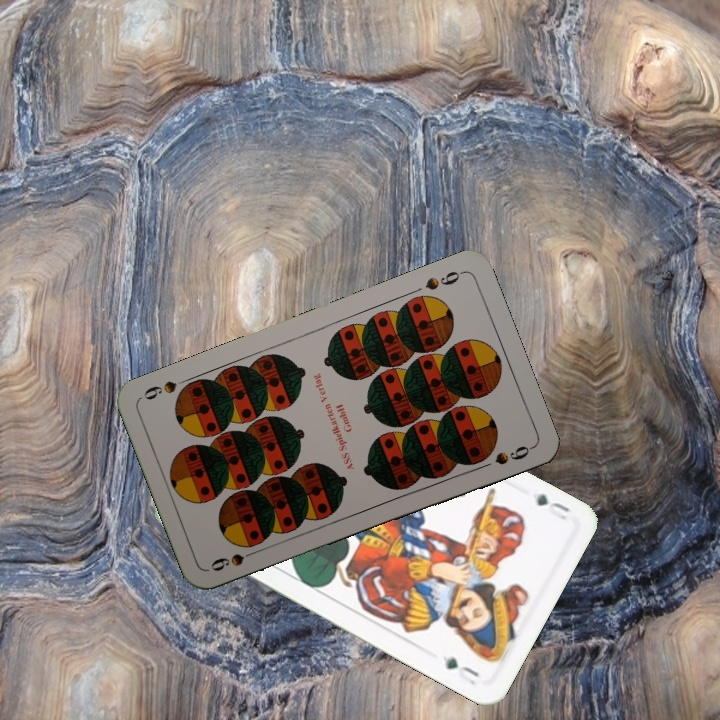GU: (532, 489, 574, 523)
S9: (206, 544, 263, 574), (421, 267, 467, 293)
